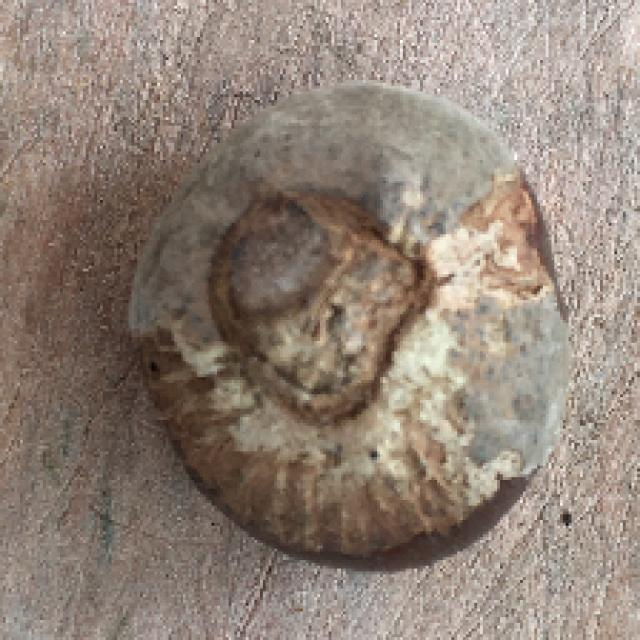damagedHazelnut: (113, 69, 580, 586)
